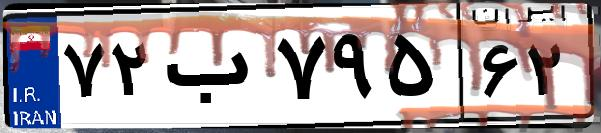2: (525, 38, 570, 115), (110, 28, 158, 98)
5: (385, 28, 445, 110)
6: (475, 38, 525, 113)
7: (270, 28, 330, 110), (57, 26, 110, 100)
9: (330, 28, 385, 110)
ب: (158, 20, 270, 120)
